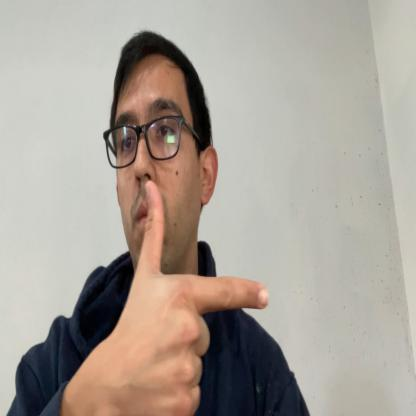G: (126, 180, 268, 416)
